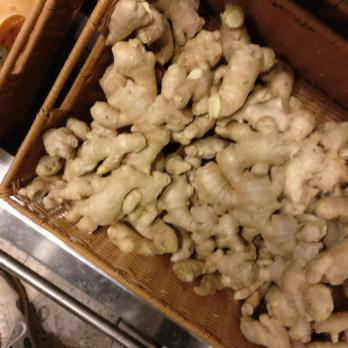Ginger: (109, 0, 270, 247), (240, 102, 348, 345), (46, 124, 119, 231)
